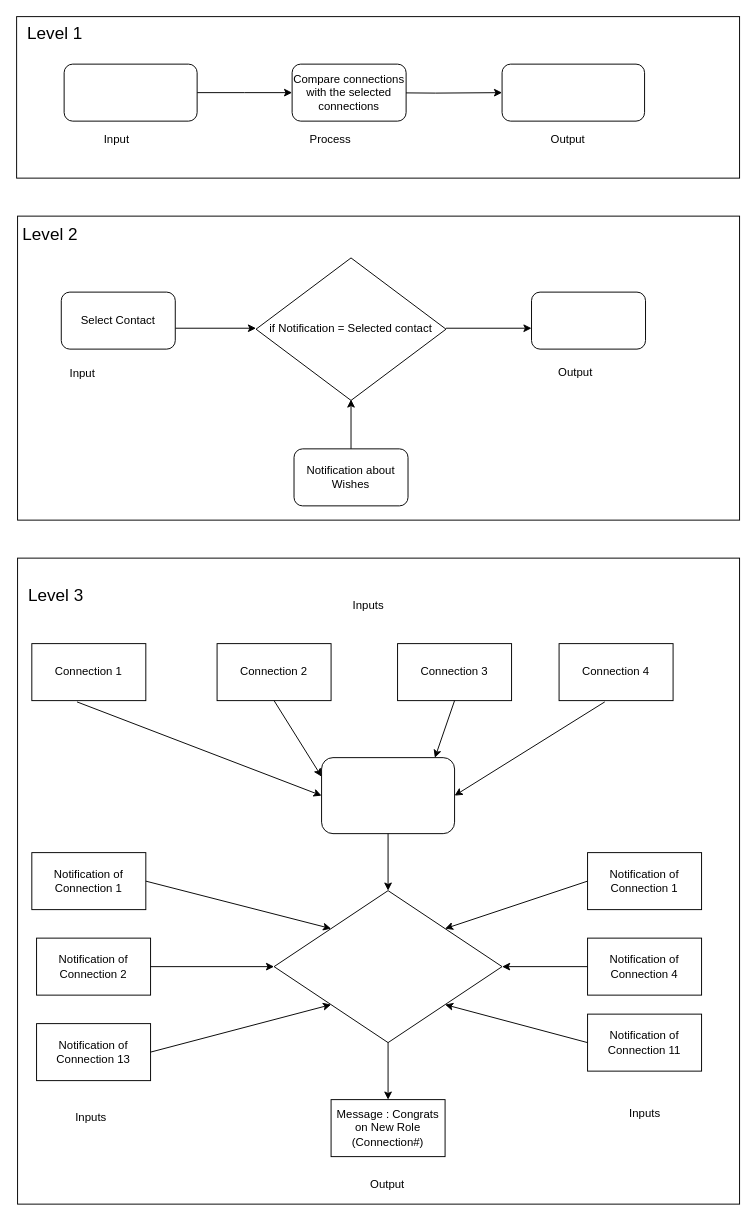
This 756x1221 diagram has some shape labels left out. The centre of each missing label's shape, as x and y in pixels:
if Notification( Selected List of Connections): the point at 387,966
Message : Congrats on the New role: the point at 588,320
Output Wishes: the point at 573,92
Select Connections: the point at 130,92
Selected list of Connections: the point at 388,795
